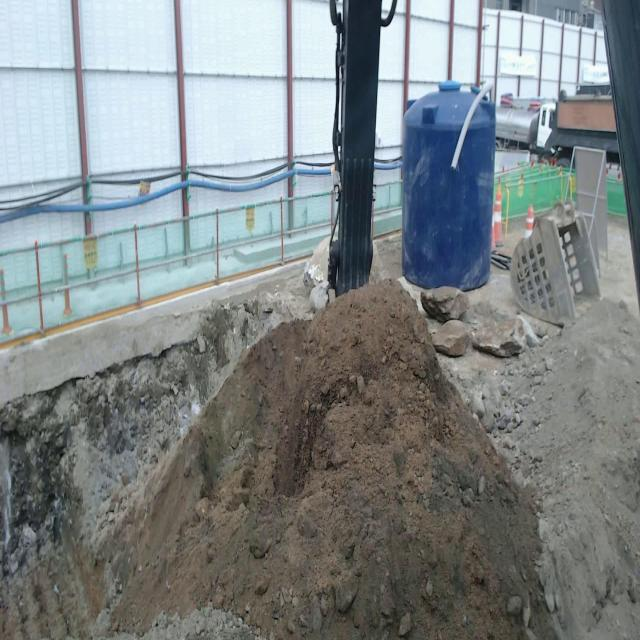cement: (0, 261, 304, 408)
red-sand: (0, 283, 640, 639)
stone: (470, 316, 525, 357), (303, 236, 330, 311), (421, 286, 469, 322), (432, 320, 471, 357), (369, 244, 383, 283)
